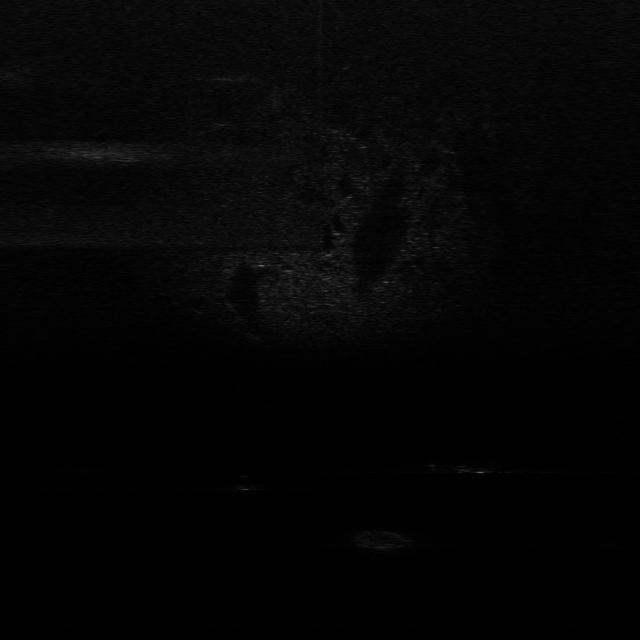ball: (230, 472, 262, 494)
circle cage: (352, 526, 411, 553)
human body: (423, 457, 508, 478)
